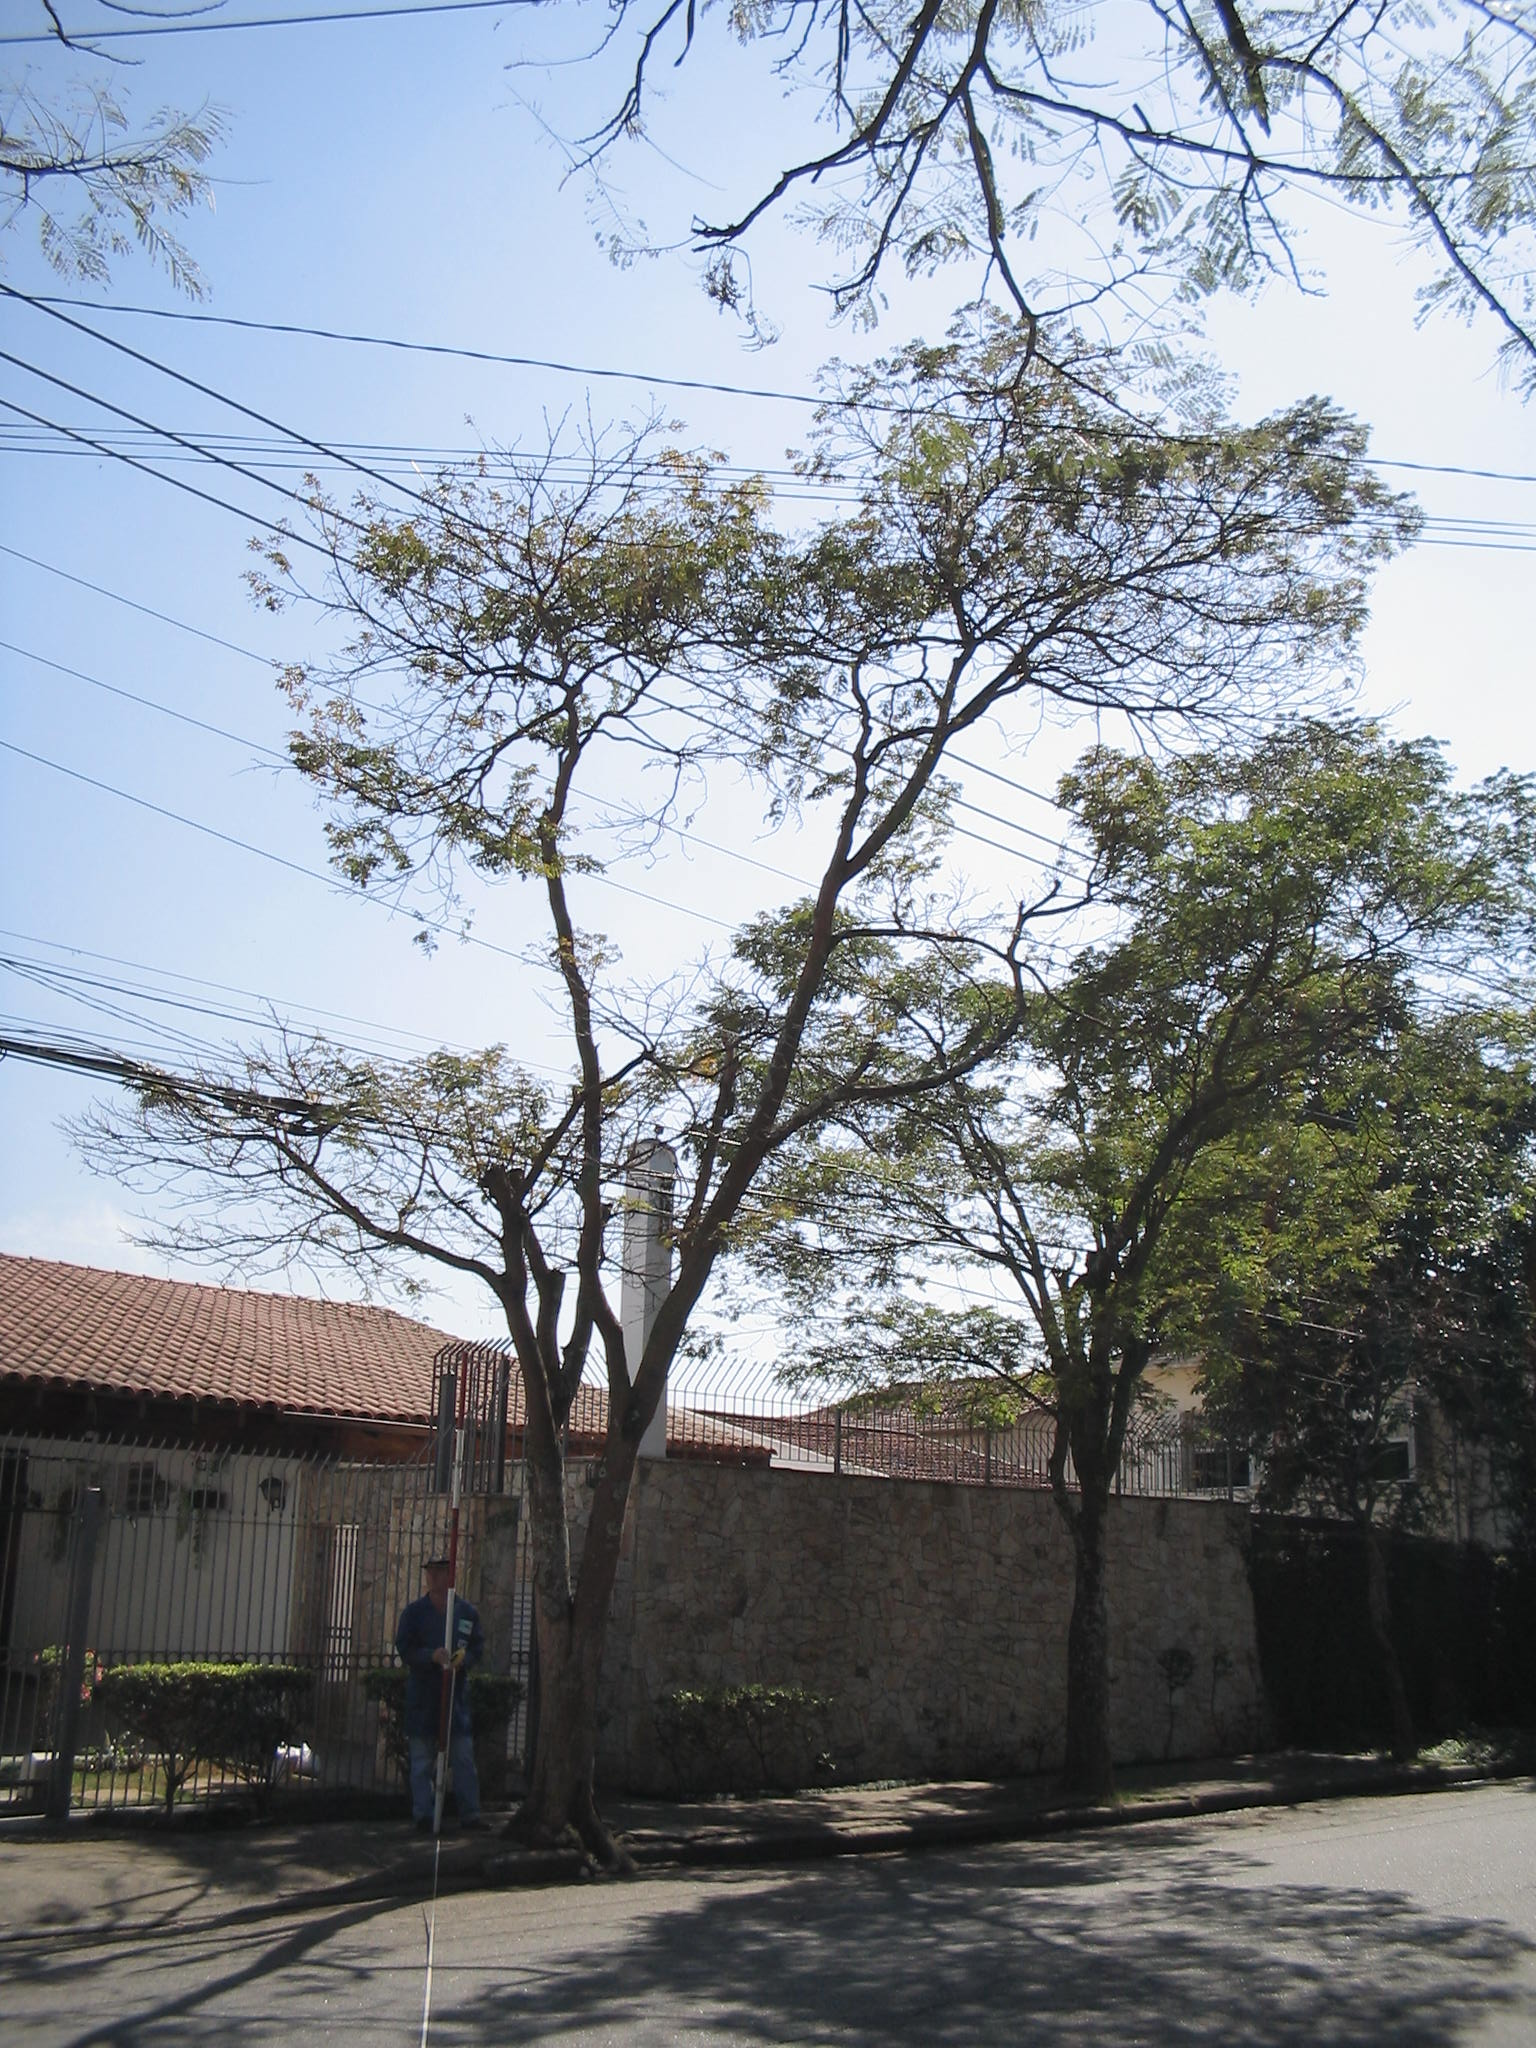crown: (69, 326, 1418, 1314), (758, 740, 1533, 1355)
stem: (487, 1622, 650, 1854), (1020, 1556, 1162, 1798)
stick: (419, 1356, 479, 1832)
tree: (66, 323, 1425, 1854), (745, 735, 1536, 1808)
